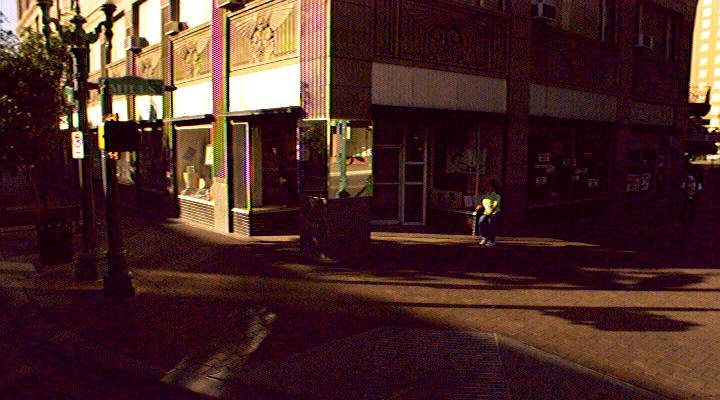Ramp: (248, 320, 660, 400)
